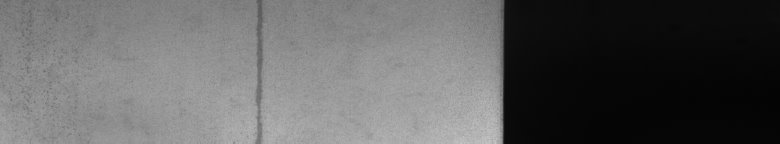hd: (252, 4, 268, 136)
